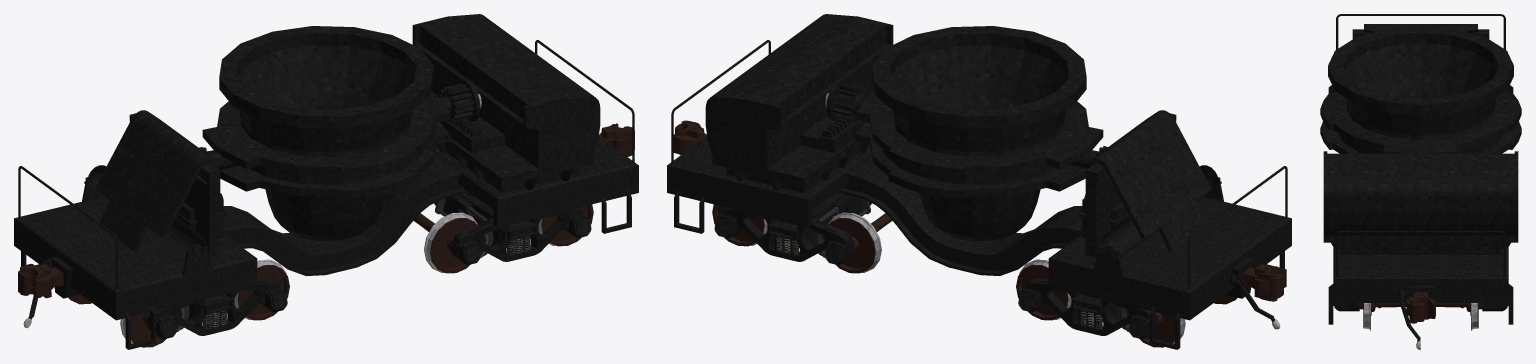
Rendered from slag_car_1.obj.
3 views of the same model, side by side, from view 1: azimuth 30°, elevation 25°; view 2: azimuth 150°, elevation 25°; view 3: azimuth 270°, elevation 25° (orthographic). The views are drawn at different scales.
Parts seen in each view (by area): view 1: WIDGET_1_TL_0.5_Z_Cube.021, FRAME_Cube.012, SHELL.001_Cube.018, SHELL_Cube.016, BOGEY_REAR_Cube, BOGEY_FRONT_Cube.010, BOGEY_REAR_WHEEL_2_Cylinder.005, FRONT_COUPLER_Cube.015, BOGEY_REAR_FRAME_Cube.030, Cube.004_Cube.020, BOGEY_FRONT_WHEEL_1_Cylinder.009, Cube.010_Cube.026 (+8 smaller); view 2: WIDGET_1_TL_0.5_Z_Cube.021, FRAME_Cube.012, SHELL.001_Cube.018, SHELL_Cube.016, BOGEY_REAR_Cube, BOGEY_FRONT_Cube.010, BOGEY_REAR_WHEEL_2_Cylinder.005, FRONT_COUPLER_Cube.015, BOGEY_REAR_FRAME_Cube.030, Cube.004_Cube.020, BOGEY_FRONT_WHEEL_1_Cylinder.009, Cube.010_Cube.026 (+8 smaller); view 3: WIDGET_1_TL_0.5_Z_Cube.021, SHELL.001_Cube.018, FRAME_Cube.012, Cube.004_Cube.020, BACK_COUPLER_Cube.024, SHELL_Cube.016, BOGEY_REAR_WHEEL_1_Cylinder.003, Cube.010_Cube.026, BOGEY_REAR_BEARINGS_Cube.003.
Boxes of the visible parts, x1,y1,x2,y2 form: WIDGET_1_TL_0.5_Z_Cube.021: (199, 26, 481, 240); FRAME_Cube.012: (14, 136, 638, 320); SHELL.001_Cube.018: (412, 14, 600, 192); SHELL_Cube.016: (94, 110, 227, 257); BOGEY_REAR_Cube: (453, 207, 583, 261); BOGEY_FRONT_Cube.010: (150, 278, 279, 335); BOGEY_REAR_WHEEL_2_Cylinder.005: (413, 212, 482, 273); FRONT_COUPLER_Cube.015: (18, 258, 63, 327); BOGEY_REAR_FRAME_Cube.030: (434, 192, 538, 247); Cube.004_Cube.020: (18, 40, 634, 289); BOGEY_FRONT_WHEEL_1_Cylinder.009: (234, 259, 289, 320); Cube.010_Cube.026: (21, 191, 631, 349); WIDGET_1_TL_0.5_Z_Cube.021: (825, 26, 1107, 240); FRAME_Cube.012: (667, 136, 1291, 320); SHELL.001_Cube.018: (705, 14, 893, 192); SHELL_Cube.016: (1078, 110, 1211, 257); BOGEY_REAR_Cube: (722, 207, 852, 261); BOGEY_FRONT_Cube.010: (1026, 278, 1155, 335); BOGEY_REAR_WHEEL_2_Cylinder.005: (823, 212, 892, 273); FRONT_COUPLER_Cube.015: (1228, 264, 1286, 329); BOGEY_REAR_FRAME_Cube.030: (767, 192, 871, 248); Cube.004_Cube.020: (671, 40, 1287, 289); BOGEY_FRONT_WHEEL_1_Cylinder.009: (1016, 259, 1071, 320); Cube.010_Cube.026: (674, 191, 1284, 349); WIDGET_1_TL_0.5_Z_Cube.021: (1320, 26, 1521, 153); SHELL.001_Cube.018: (1323, 151, 1518, 254); FRAME_Cube.012: (1333, 88, 1508, 302); Cube.004_Cube.020: (1336, 14, 1505, 276); BACK_COUPLER_Cube.024: (1398, 289, 1435, 349); SHELL_Cube.016: (1352, 24, 1489, 38); BOGEY_REAR_WHEEL_1_Cylinder.003: (1359, 303, 1482, 330); Cube.010_Cube.026: (1328, 85, 1513, 324); BOGEY_REAR_BEARINGS_Cube.003: (1334, 303, 1507, 311).
Size of the model in its own units: 8.47 by 2.71 by 2.82.
